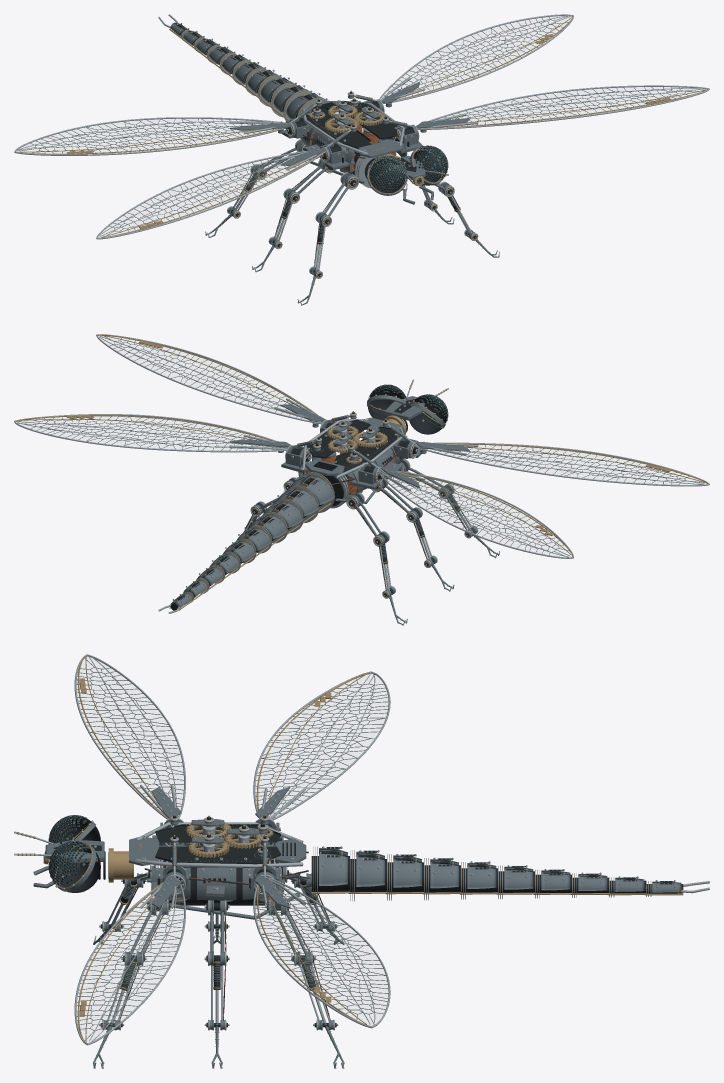
File: dragonfly.glb
3 renders of one model, top to bottom at view 1: azimuth 30°, elevation 25°; view 2: azimuth 150°, elevation 25°; view 3: azimuth 270°, elevation 25°, orthographic. The views are drawn at different scales.
Parts seen in each view (by area): view 1: Wing_L_Hind, Wing_R_Hind, Wing_R_Fore, Wing_L_Fore, Thorax, Head, Leg_L_0, Leg_L_1, Leg_L_2, Leg_R_0, Abdomen_02, Abdomen_01 (+3 smaller); view 2: Wing_R_Hind, Wing_L_Hind, Wing_L_Fore, Wing_R_Fore, Thorax, Head, Leg_L_2, Leg_L_1, Leg_L_0, Abdomen_00, Abdomen_01, Abdomen_02 (+3 smaller); view 3: Wing_R_Hind, Wing_L_Hind, Wing_R_Fore, Wing_L_Fore, Thorax, Head, Leg_R_1, Leg_R_2, Leg_R_0, Abdomen_00, Abdomen_01, Abdomen_02 (+9 smaller).
Part boxes in pixels (box(x1,y1,x2,y2)): Wing_L_Hind: box(14, 117, 292, 155); Wing_R_Hind: box(379, 14, 573, 103); Wing_R_Fore: box(414, 85, 709, 129); Wing_L_Fore: box(96, 148, 327, 239); Thorax: box(278, 90, 426, 188); Head: box(367, 145, 448, 204); Leg_L_0: box(297, 172, 358, 305); Leg_L_1: box(252, 158, 335, 272); Leg_L_2: box(205, 139, 306, 237); Leg_R_0: box(434, 181, 499, 257); Abdomen_02: box(260, 77, 300, 117); Abdomen_01: box(273, 85, 314, 120); Wing_R_Hind: box(14, 414, 292, 452); Wing_L_Hind: box(378, 467, 573, 558); Wing_L_Fore: box(413, 441, 709, 486); Wing_R_Fore: box(96, 334, 325, 424); Thorax: box(278, 411, 426, 508); Head: box(367, 379, 448, 437); Leg_L_2: box(346, 492, 407, 625); Leg_L_1: box(371, 477, 454, 591); Leg_L_0: box(399, 458, 499, 558); Abdomen_00: box(289, 472, 334, 512); Abdomen_01: box(276, 485, 319, 523); Abdomen_02: box(263, 498, 303, 534); Wing_R_Hind: box(253, 874, 390, 1028); Wing_L_Hind: box(253, 671, 390, 820); Wing_R_Fore: box(74, 875, 185, 1045); Wing_L_Fore: box(74, 654, 185, 819); Thorax: box(129, 814, 308, 919); Head: box(14, 815, 133, 892); Leg_R_1: box(204, 900, 229, 1068); Leg_R_2: box(265, 897, 344, 1068); Leg_R_0: box(93, 898, 170, 1068); Abdomen_00: box(311, 846, 349, 901); Abdomen_01: box(348, 850, 386, 901); Abdomen_02: box(386, 854, 424, 900).
Bounding box in the file's own units: 9.09 × 1.97 × 6.86.
